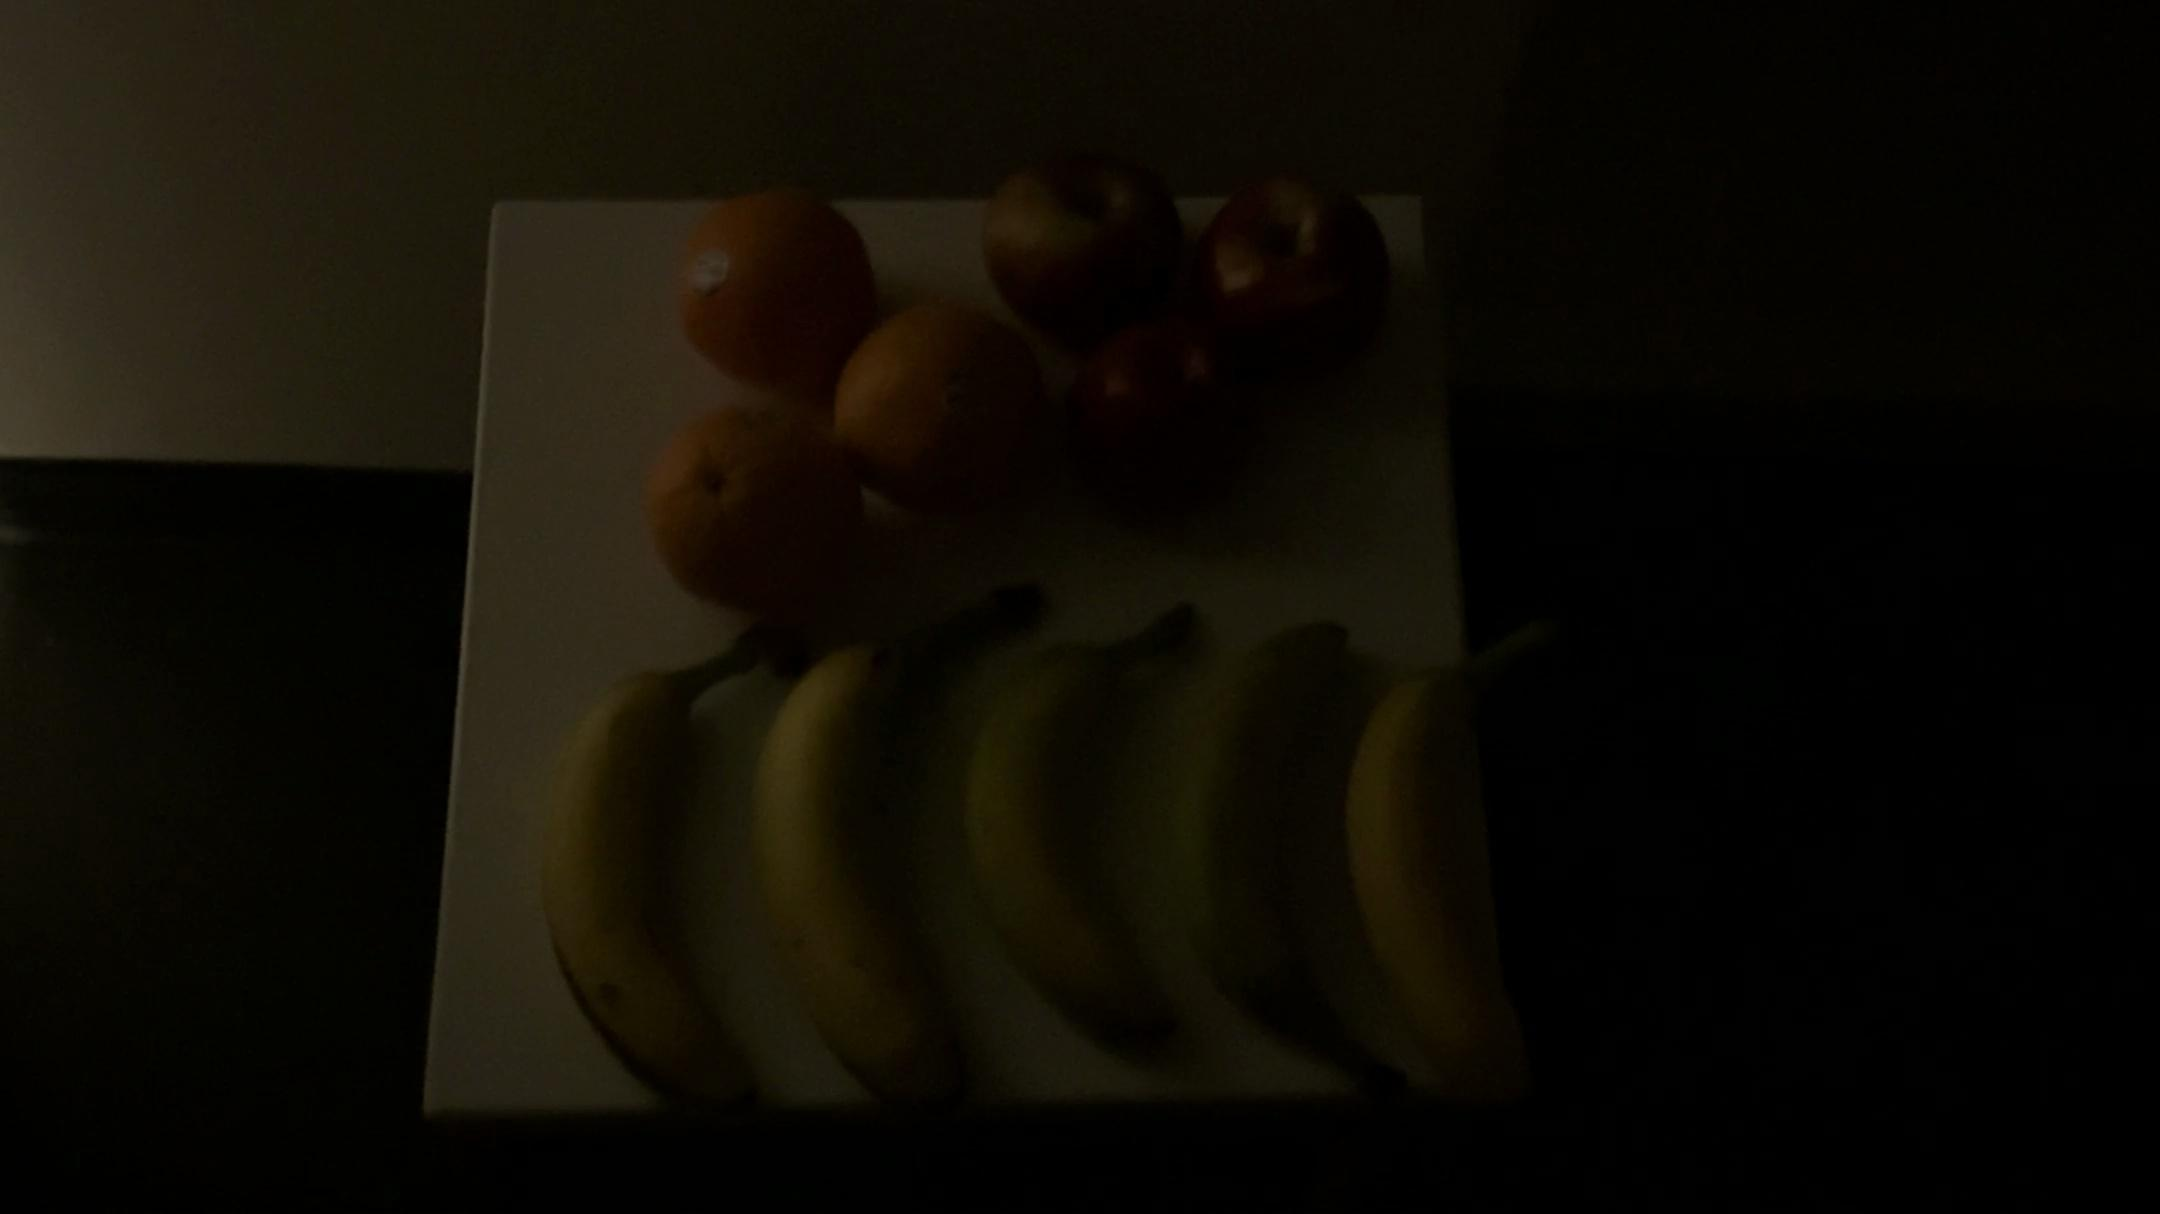apple: (1191, 169, 1409, 407), (1056, 306, 1268, 524), (975, 141, 1190, 346)
banana: (739, 574, 1047, 1097), (973, 580, 1246, 1080), (530, 617, 792, 1100), (1165, 614, 1390, 1115), (1313, 631, 1564, 1077)
orange: (834, 280, 1044, 531), (657, 168, 886, 386), (633, 389, 843, 619)
